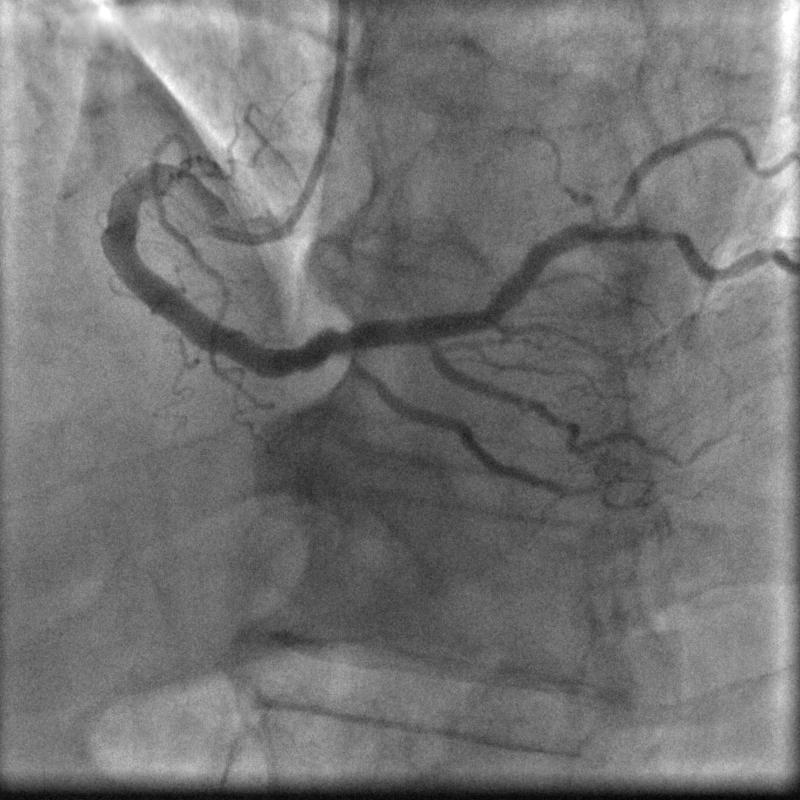Stenosis: (621, 220, 689, 248)
